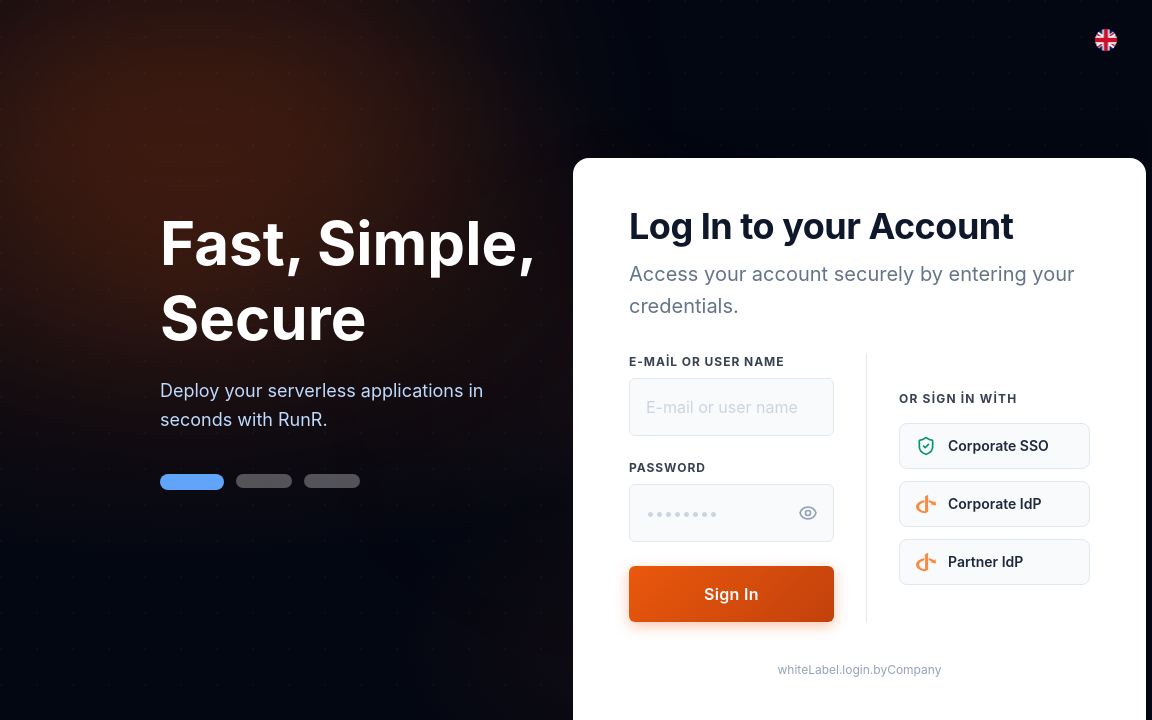
Test: LoginView SSO buttons › shows the API’s reason when a sign-in cannot start
Click the button with test id "sso-provider" showing "Corporate IdP".
click(994, 504)  # box 899,481 -> 1090,527
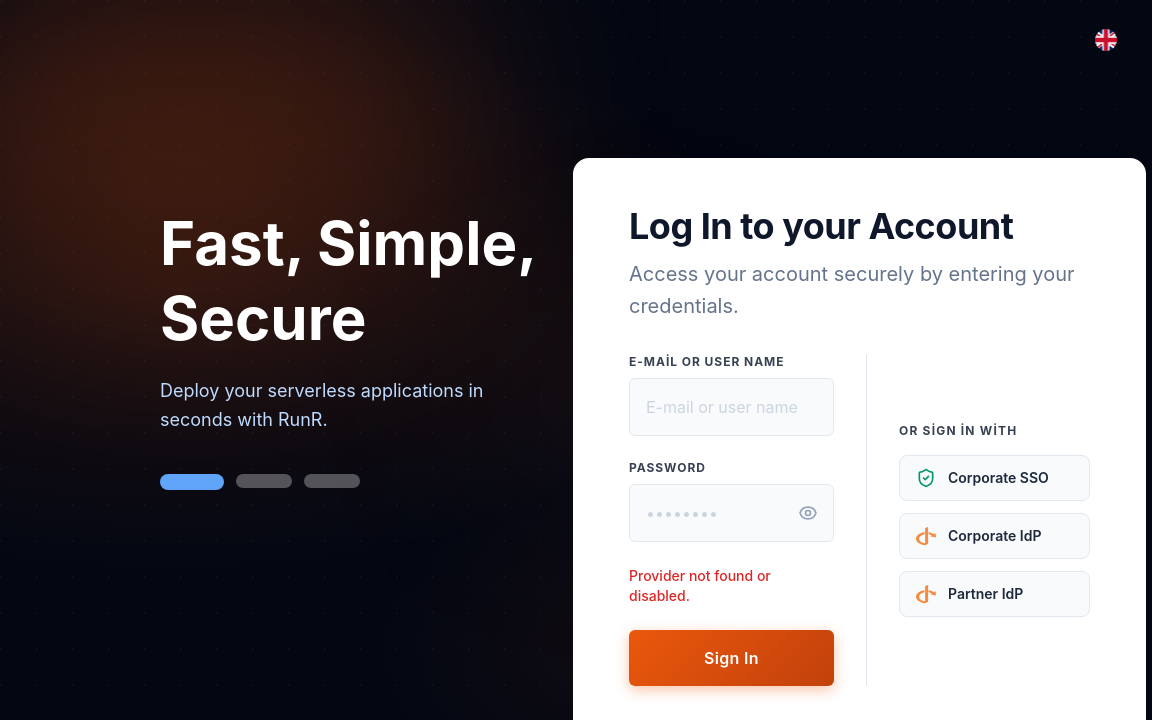
Check: the text "Provider not found or disabled." is shown, box 629,567 -> 771,604
